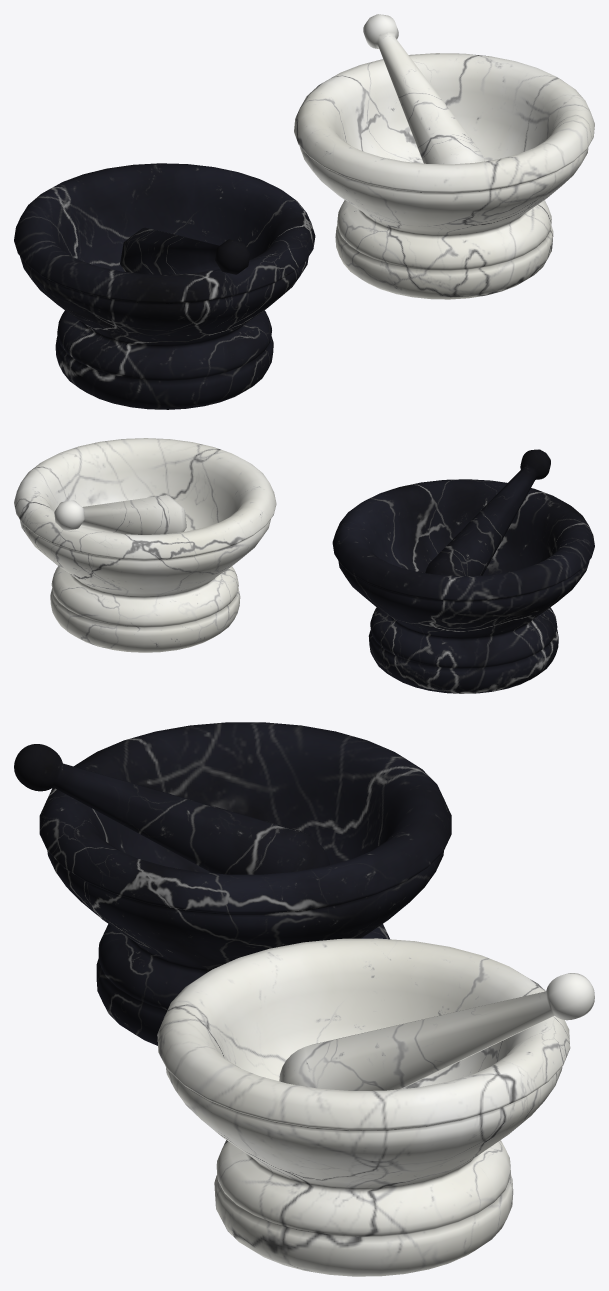
File: marble_mortars_-_two_colors.glb
3 renders of one model, top to bottom at view 1: azimuth 30°, elevation 25°; view 2: azimuth 150°, elevation 25°; view 3: azimuth 270°, elevation 25°, orthographic. The views are drawn at different scales.
Visible parts, largest first — view 1: Cylinder.124, Cylinder.001, Cylinder.003, Cylinder.002; view 2: Cylinder.001, Cylinder.124, Cylinder.002, Cylinder.003; view 3: Cylinder.001, Cylinder.124, Cylinder.002, Cylinder.003.
Part boxes in pixels (x1,y1,x2,y2): Cylinder.124: [14, 163, 315, 409]; Cylinder.001: [294, 53, 594, 299]; Cylinder.003: [363, 14, 484, 164]; Cylinder.002: [120, 227, 250, 274]; Cylinder.001: [14, 438, 276, 652]; Cylinder.124: [332, 479, 594, 693]; Cylinder.002: [425, 449, 550, 576]; Cylinder.003: [54, 495, 186, 534]; Cylinder.001: [157, 938, 570, 1276]; Cylinder.124: [39, 722, 451, 1045]; Cylinder.002: [14, 744, 329, 874]; Cylinder.003: [279, 973, 594, 1090].
Bounding box in the file's own units: 0.9137 × 0.2894 × 0.5745.
2 materials, 2 textured.
